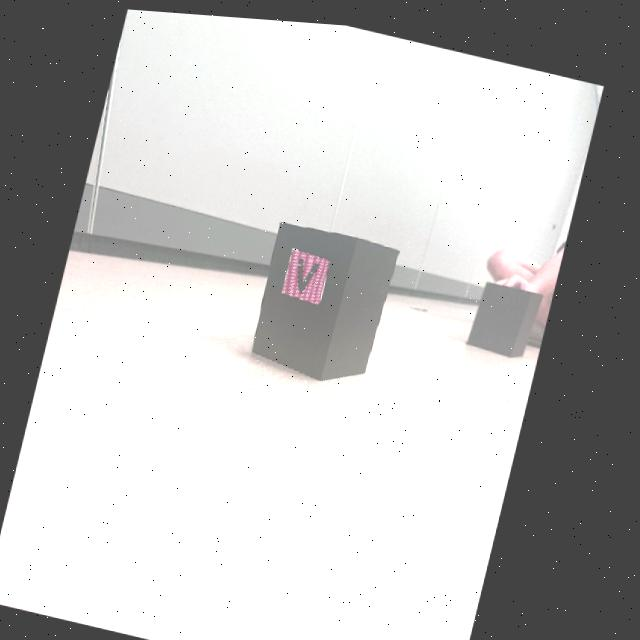V: (302, 254, 323, 288)
